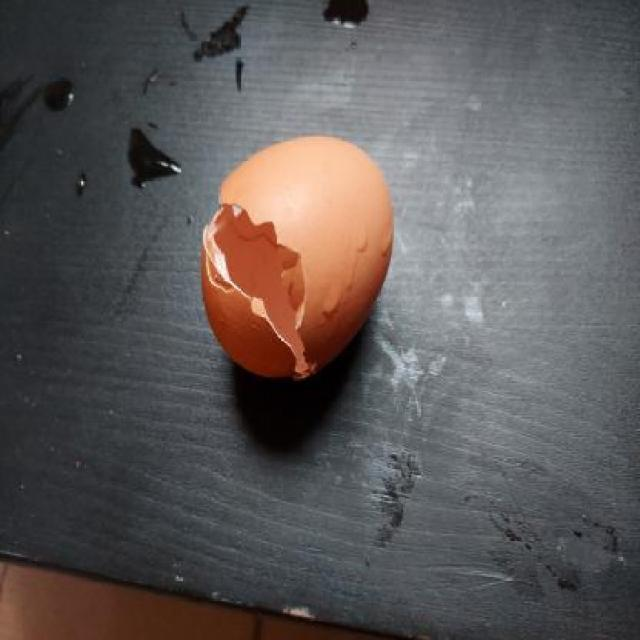biodegradable: (198, 137, 397, 394)
